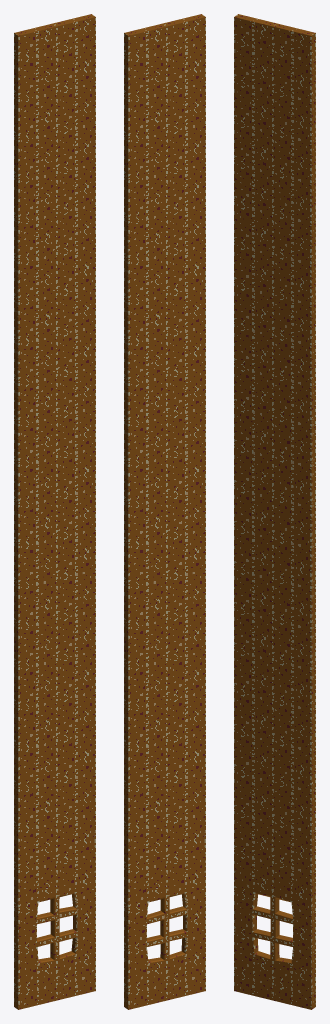
The model's file is SM_CookieWindow.glb.
3 renders of one model, left to right at view 1: azimuth 30°, elevation 25°; view 2: azimuth 210°, elevation 25°; view 3: azimuth 330°, elevation 25°, orthographic.
Parts seen in each view (by area): view 1: SM_CookieWindow; view 2: SM_CookieWindow; view 3: SM_CookieWindow.
Boxes of the visible parts, x1,y1,x2,y2 form: SM_CookieWindow: (14, 14, 95, 1009); SM_CookieWindow: (124, 14, 205, 1009); SM_CookieWindow: (234, 14, 315, 1009).
Size of the model in its own units: 4 by 48 by 0.375.
Materials: 1 (1 with a texture image).
